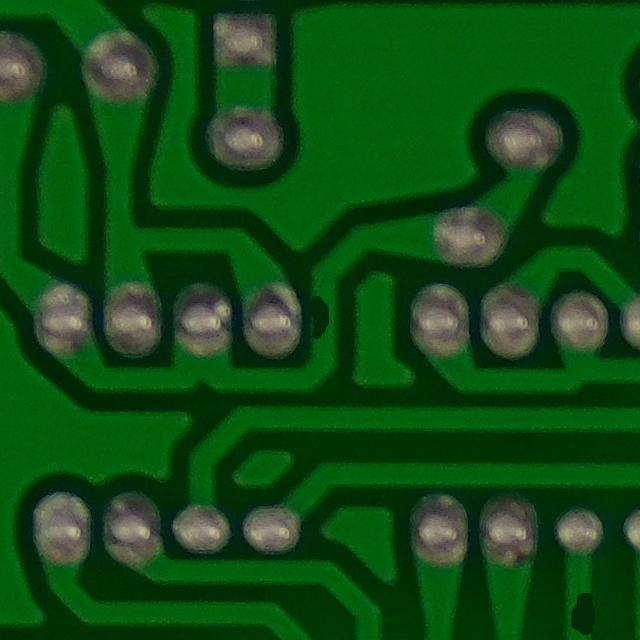mouse_bite: (301, 287, 339, 354)
